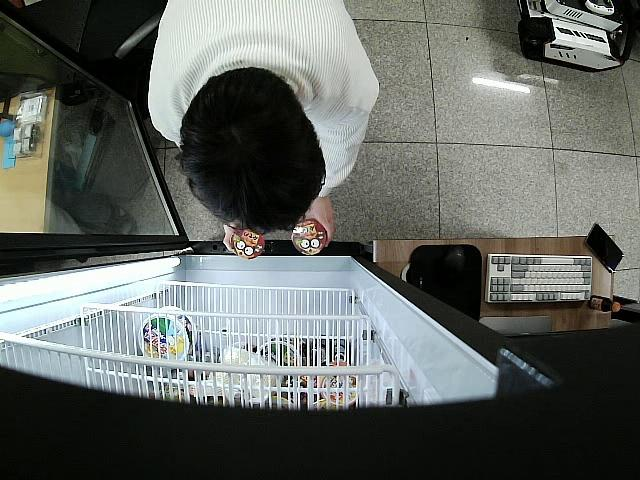06_nuguri_S: (292, 219, 328, 255), (229, 227, 265, 261)
